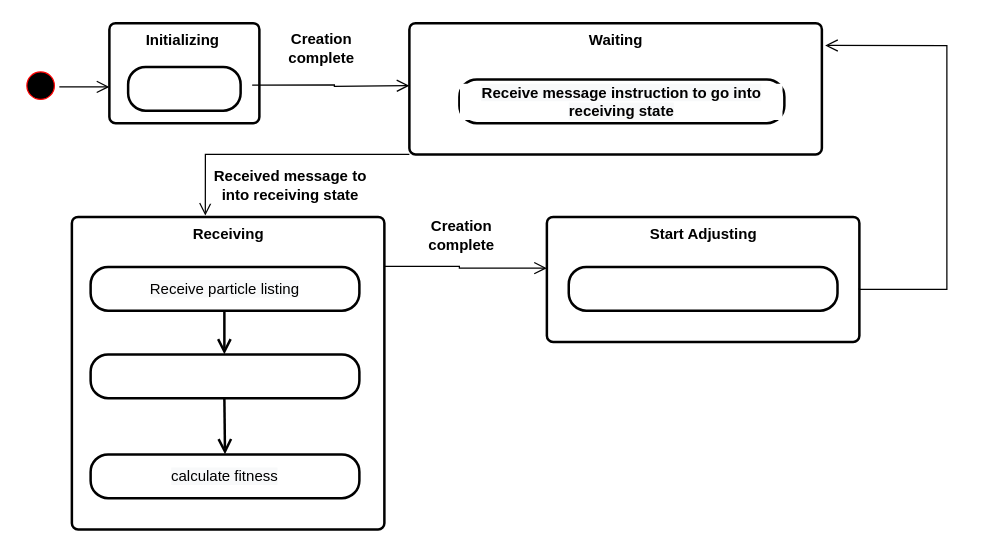
This 981x551 diagram has some shape labels left out. Here are the shapes that lost their labels. From the top down, the centre of each, then its label:
pixel 183 88: Creating
pixel 702 288: Adjust particle values
pixel 224 375: Broad features to particles
